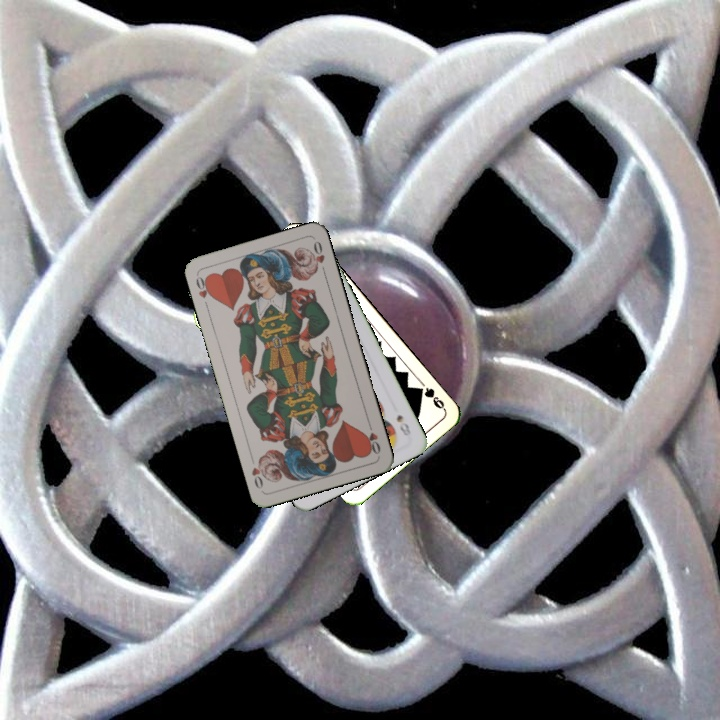G9: (413, 383, 448, 413)
HO: (192, 272, 216, 311), (361, 417, 383, 457)
S8: (392, 410, 414, 438)
